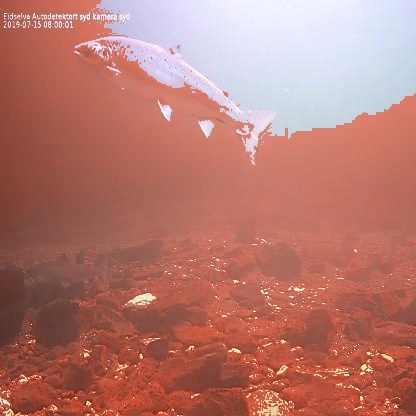salmon: (72, 33, 277, 166), (24, 253, 112, 290)
